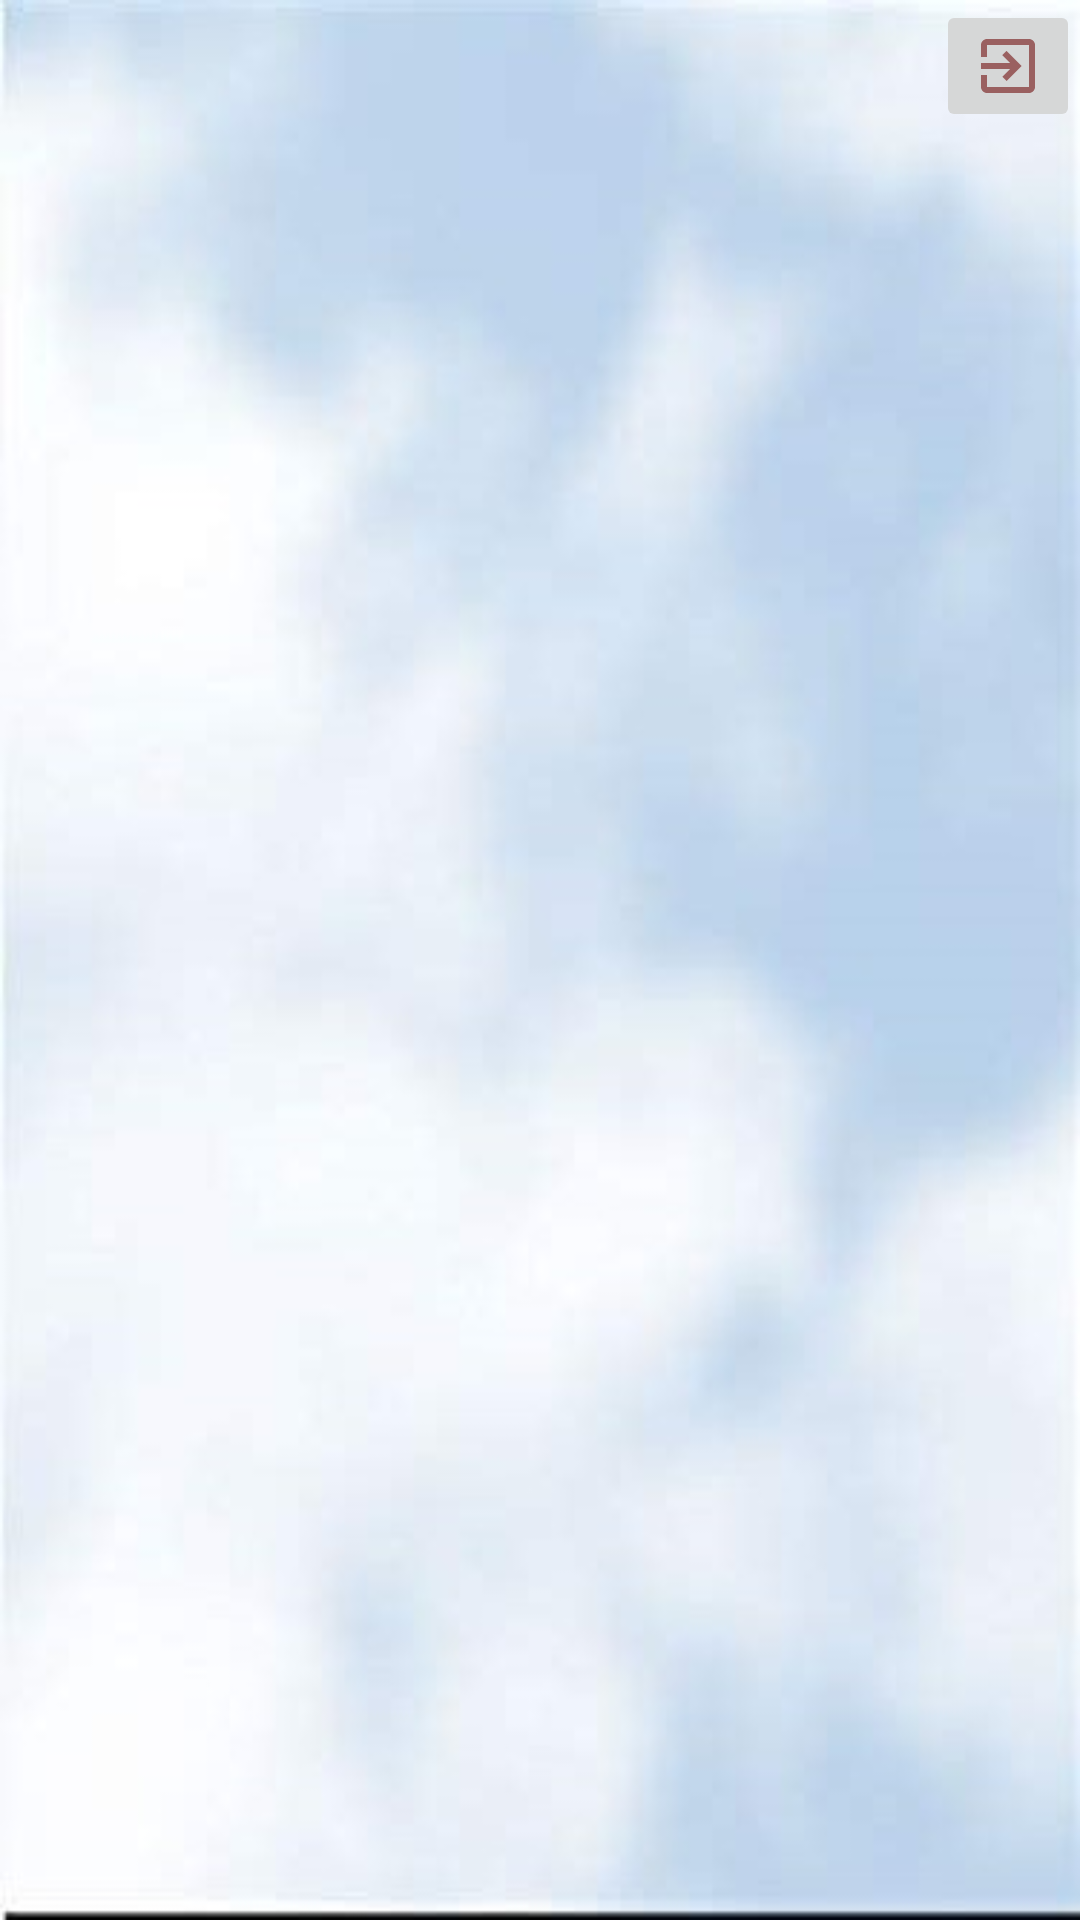

Screen size 1080px x 1920px. Icon name, then its box in pixels as (x1, y1, x2, y2):
exit to app: (948, 18, 1068, 114)
